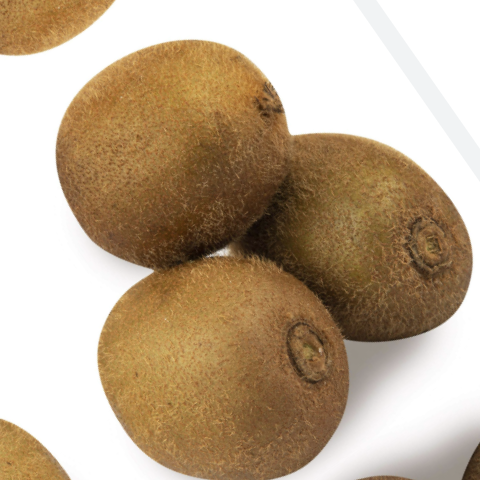kiwi: (37, 174, 417, 480), (0, 0, 339, 326), (188, 88, 480, 429)
